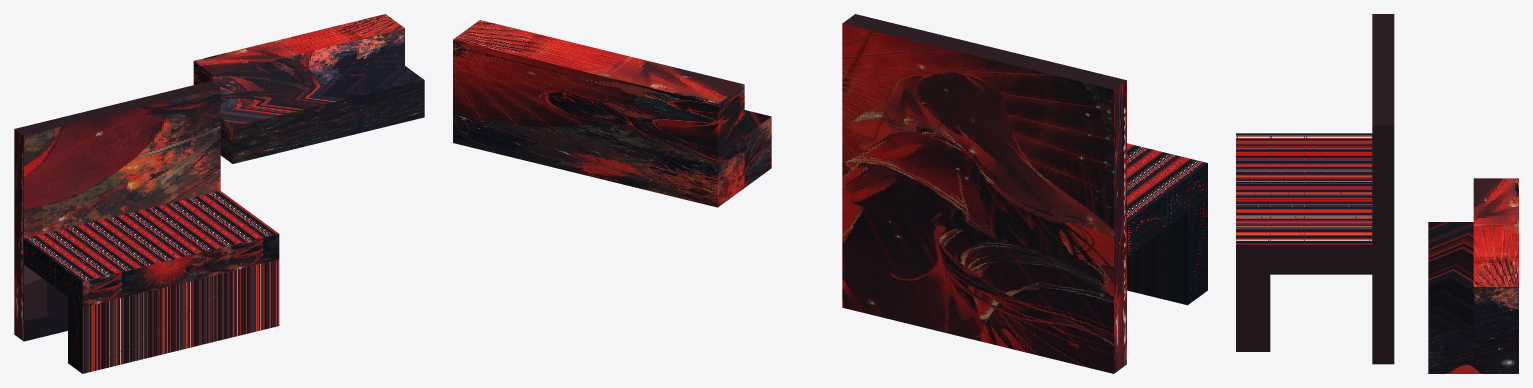
File: heavens blessing couches.glb
The picture shows the model from 3 angles, left to right: view 1: azimuth 30°, elevation 25°; view 2: azimuth 150°, elevation 25°; view 3: azimuth 270°, elevation 25°; orthographic projection. The views are drawn at different scales.
Parts seen in each view (by area): view 1: Cube; view 2: Cube; view 3: Cube.
Part boxes in pixels (box(x1,y1,x2,y2)): Cube: box(14, 14, 424, 373); Cube: box(453, 14, 1207, 373); Cube: box(1236, 14, 1518, 373).
Size of the model in its own units: 0.768 by 0.3555 by 0.3814.
Materials: 1 (1 with a texture image).
